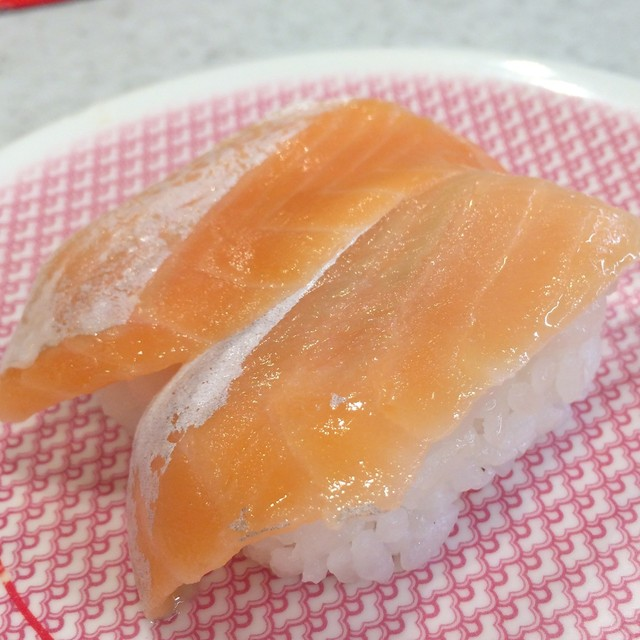salmon: (132, 169, 636, 618)
